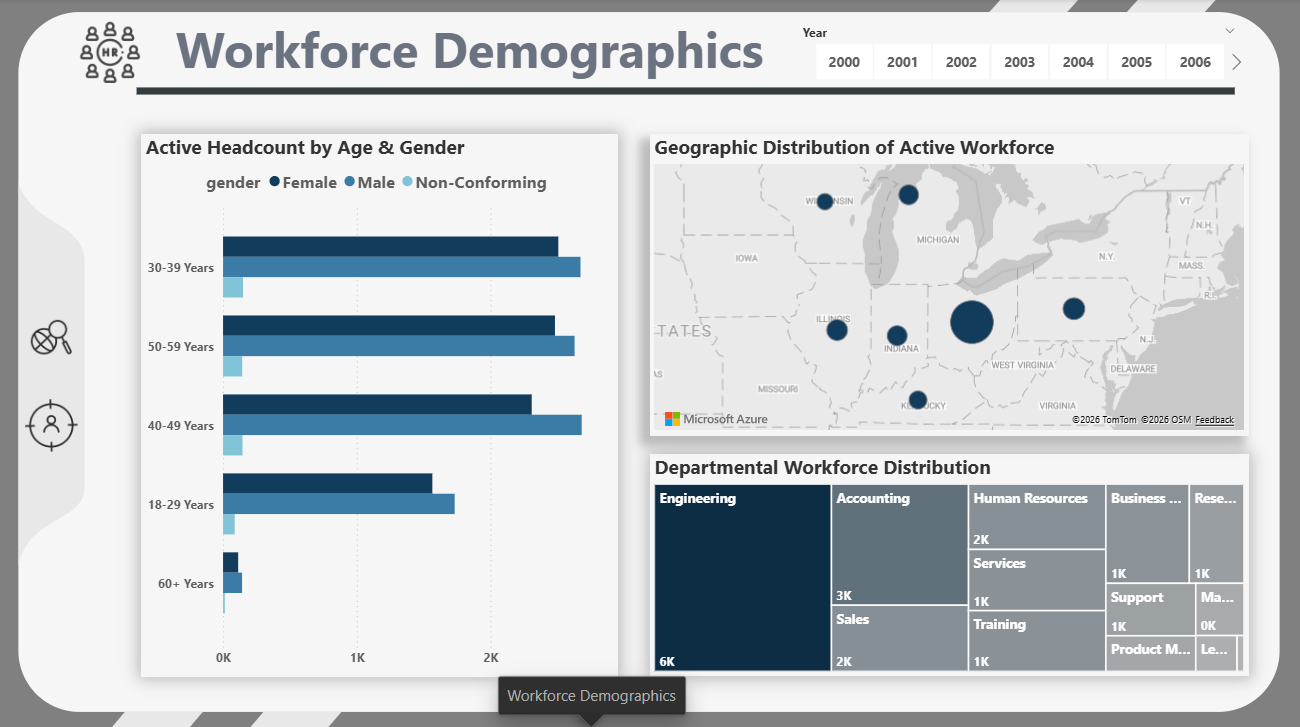

The dashboard page shown, as its layout file describes it:
{"tool":"powerbi","page":{"name":"Workforce Demographics","canvas":[1280,720],"ordinal":2},"visuals":[{"type":"textbox","box":[170,11.4,631.4,82.9],"z":0},{"type":"image","box":[81.4,18.6,60,68.6],"z":1000},{"type":"image","box":[25.8,306.8,55.2,56.4],"z":2000},{"type":"clusteredBarChart","title":"Active Headcount by Age & Gender","fields":{"Y":["Measures_.Avtice Employees"],"Category":["hr.Age Group"],"Series":["hr.gender"]},"box":[141.4,132.9,468.6,532.9],"z":3000},{"type":"azureMap","title":"Geographic Distribution of Active Workforce","fields":{"Category":["hr.location_state"],"Size":["Measures_.Avtice Employees"]},"box":[640,132.9,588.6,295.7],"z":4000},{"type":"treemap","title":"Departmental Workforce Distribution","fields":{"Group":["hr.department"],"Values":["Measures_.Avtice Employees"]},"box":[640,447.1,588.6,218.6],"z":5000},{"type":"slicer","fields":{"Values":["calender.Year"]},"box":[778,19.2,450.1,65.9],"z":6000},{"type":"image","box":[25.8,390.2,55.2,56.4],"z":7000}]}

Visuals, with their boxes on the page's 1280x720 design canvas (x1, y1, x2, y2). These are canvas units, not pixel positions in the 1300x727 screenshot, which may show the page scaled, cropped or inside an application window:
textbox: [x1=170, y1=11, x2=801, y2=94]
image: [x1=81, y1=19, x2=141, y2=87]
image: [x1=26, y1=307, x2=81, y2=363]
"Active Headcount by Age & Gender" clusteredBarChart: [x1=141, y1=133, x2=610, y2=666]
"Geographic Distribution of Active Workforce" azureMap: [x1=640, y1=133, x2=1229, y2=429]
"Departmental Workforce Distribution" treemap: [x1=640, y1=447, x2=1229, y2=666]
slicer - calender.Year: [x1=778, y1=19, x2=1228, y2=85]
image: [x1=26, y1=390, x2=81, y2=447]
